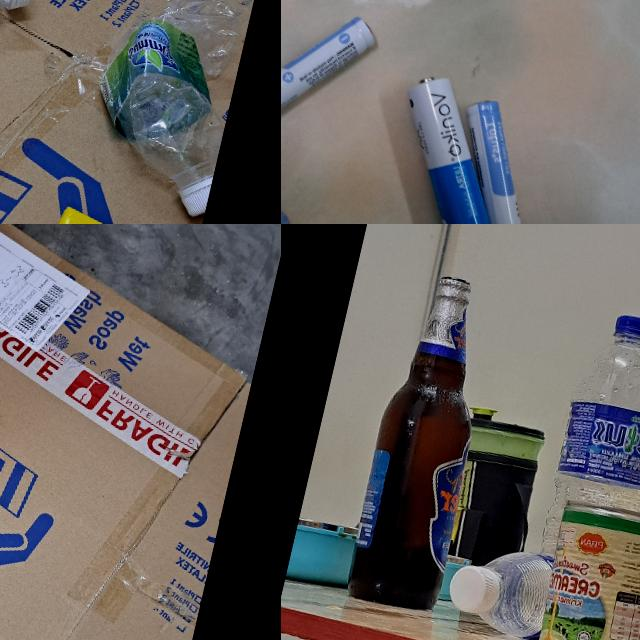bateria: (375, 70, 517, 224), (436, 95, 550, 224), (281, 0, 379, 136)
garrafa de vidro: (343, 271, 503, 614)
garrafa plástica: (74, 0, 251, 218), (526, 306, 640, 630), (440, 532, 557, 640)
lata: (534, 491, 640, 640)
papelão: (0, 224, 277, 640), (0, 0, 281, 224)
tampa plástica: (442, 556, 506, 620), (175, 159, 215, 222), (608, 312, 640, 349)
